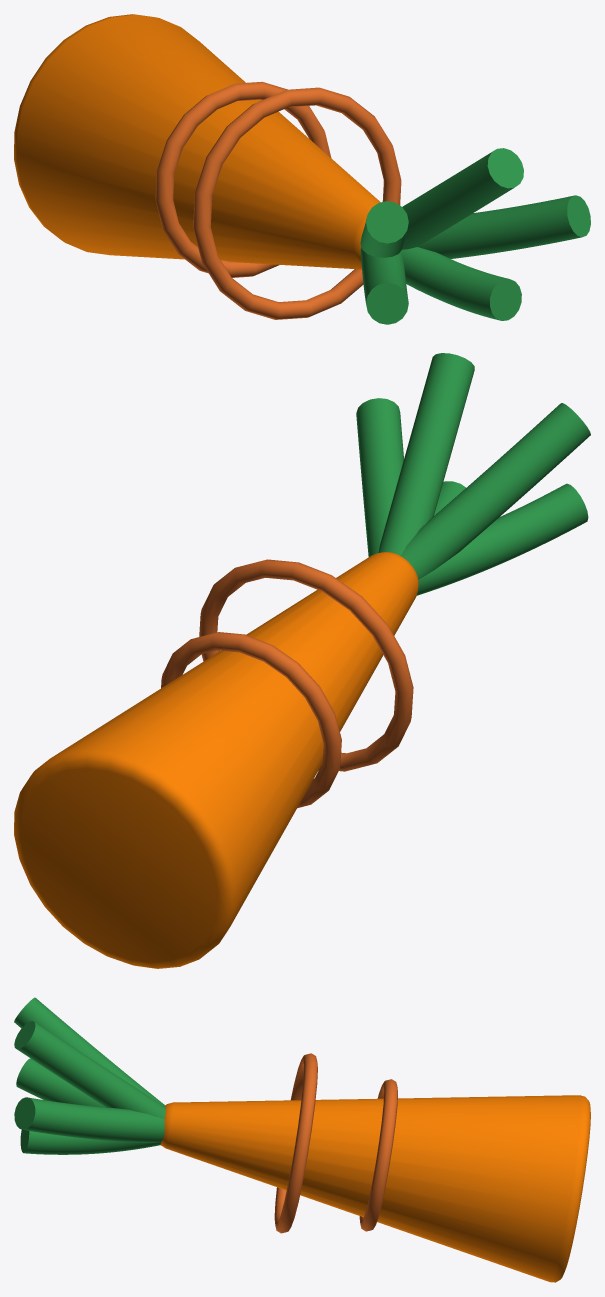
Rendered from food_ingredient_carrot.gltf.
3 renders of one model, top to bottom at view 1: azimuth 30°, elevation 25°; view 2: azimuth 150°, elevation 25°; view 3: azimuth 270°, elevation 25°, orthographic. The views are drawn at different scales.
Visible parts, largest first — view 1: CarrotRootBody; view 2: CarrotRootBody; view 3: CarrotRootBody.
Boxes of the visible parts, bbox=[...] form: CarrotRootBody: bbox=[14, 14, 590, 324]; CarrotRootBody: bbox=[14, 353, 590, 968]; CarrotRootBody: bbox=[14, 997, 590, 1282].
Bounding box in the file's own units: 0.1722 × 0.2454 × 0.489.
